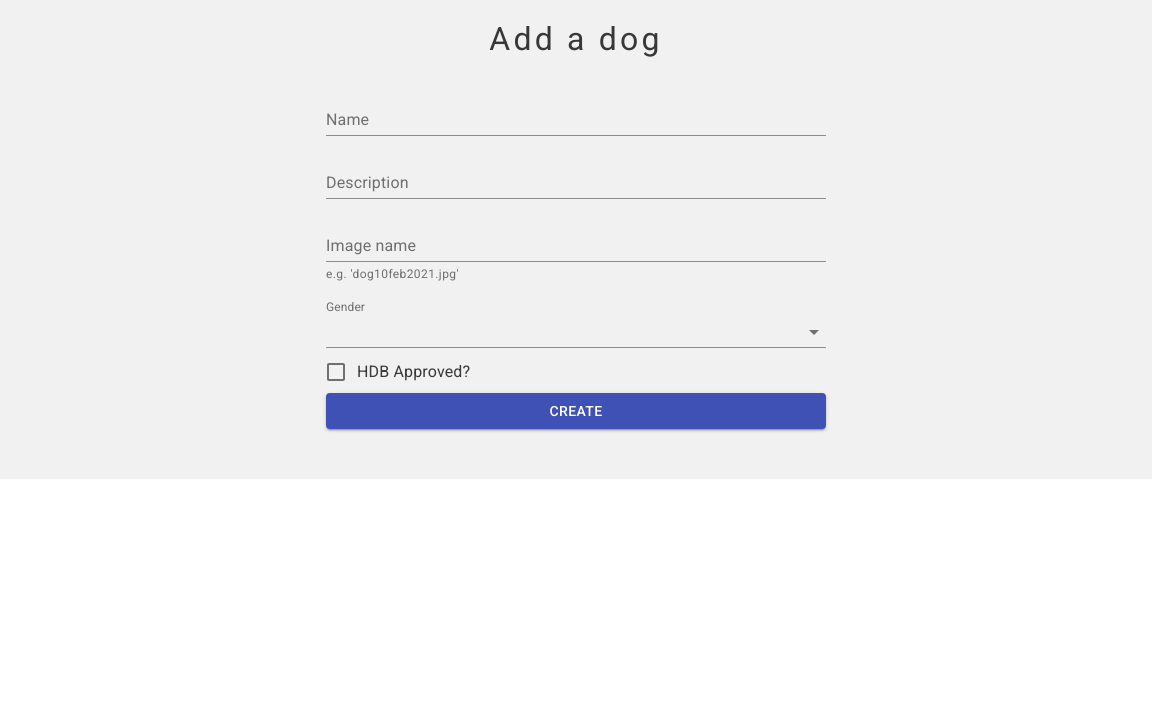
AddDog › should display errors on submit if required fields are missing
Click the button with test id "create-dog-btn" at (576, 411), box [326,393,826,429]
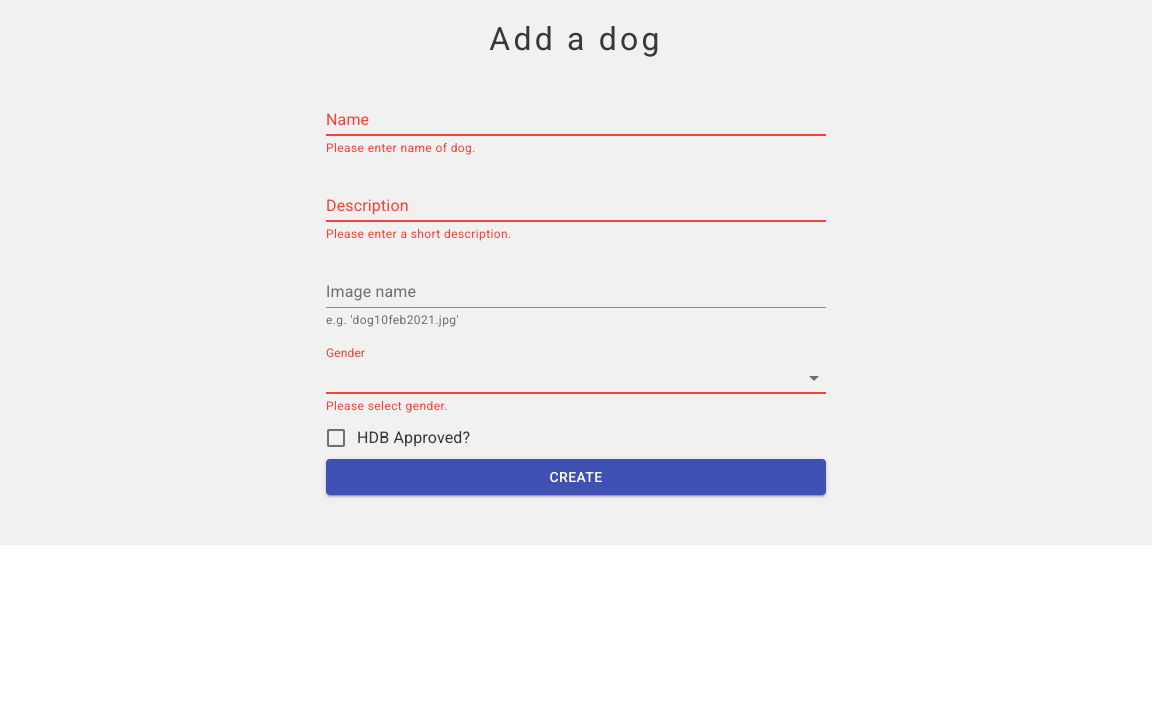
Expected: the text "Please enter name of dog." is shown, [326,141,476,155]
Expected: the text "Please select gender." is shown, [326,399,448,413]
Expected: the text "Please enter a short description." is shown, [326,227,512,241]
